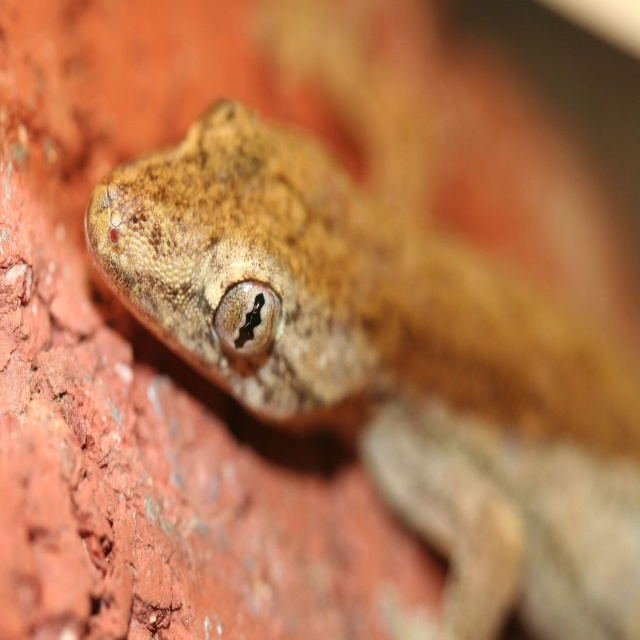Lizard: (80, 64, 608, 640)
